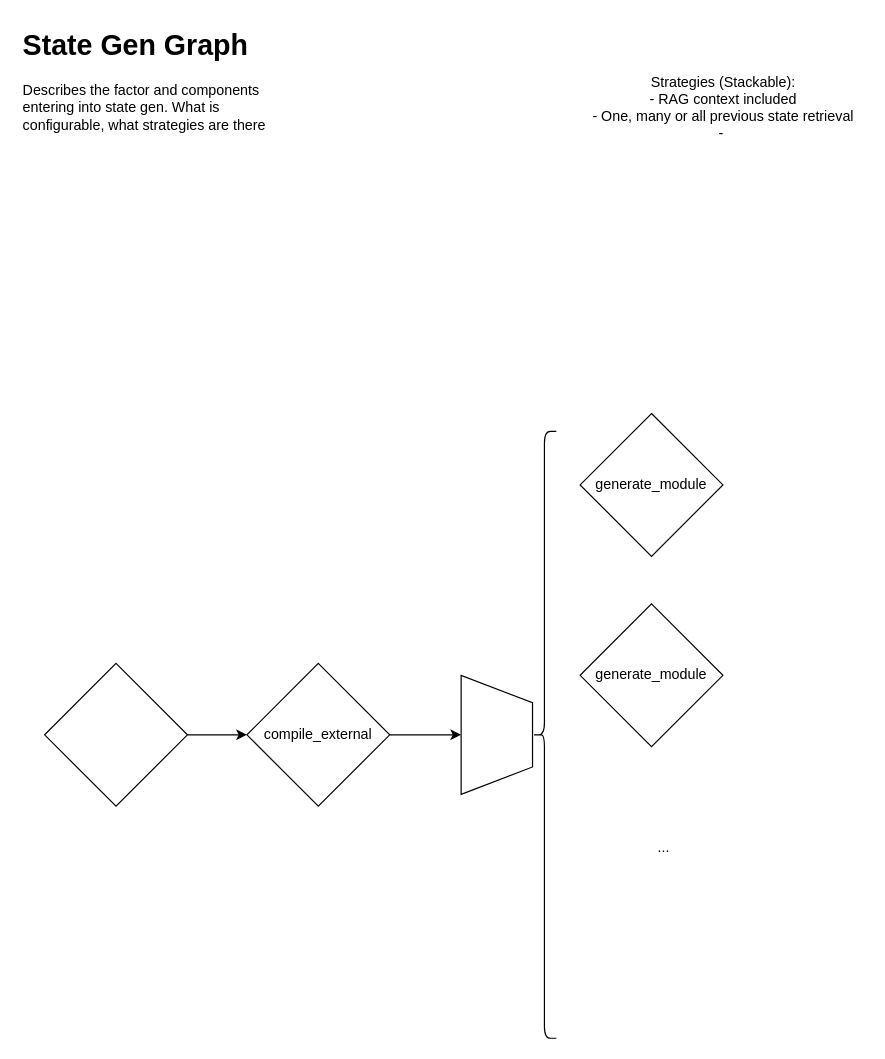
Some shapes in this 885 by 1059 pixel diagram are drawn without their labels. Here are the shapes that lost their labels. From the top down, the centre of each, then its label:
At pixel 115 734: "load_context".
At pixel 496 734: "Dispatch".
